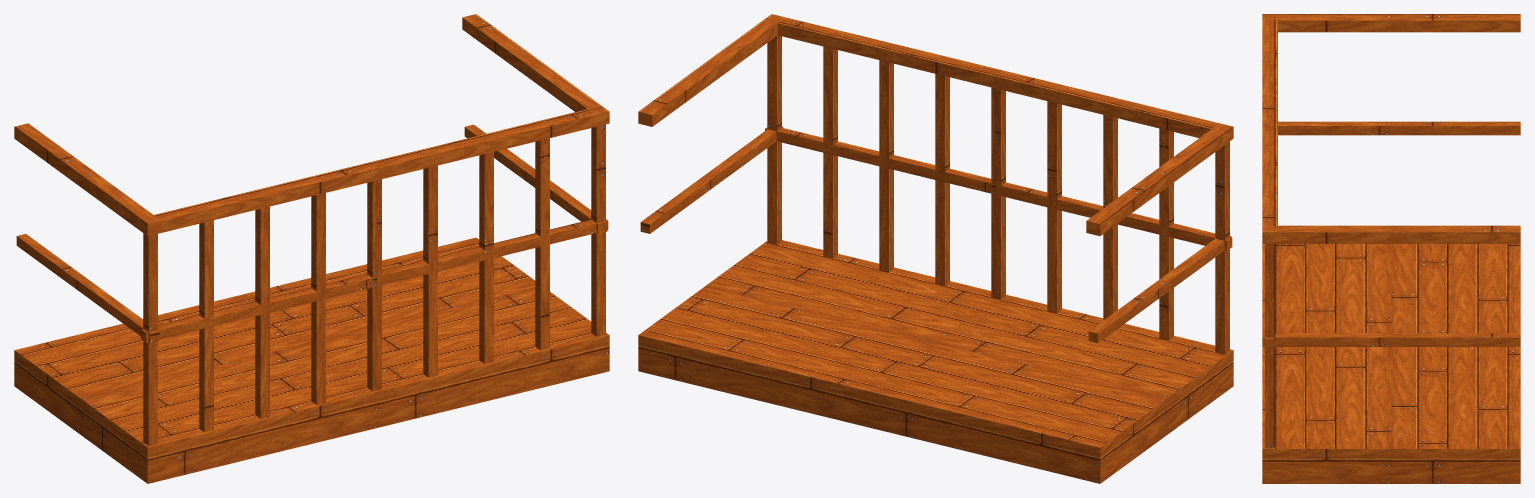
Rendered from Balcony.fbx.
3 renders of one model, left to right at view 1: azimuth 30°, elevation 25°; view 2: azimuth 150°, elevation 25°; view 3: azimuth 270°, elevation 25°, orthographic. The views are drawn at different scales.
Parts seen in each view (by area): view 1: Balcony; view 2: Balcony; view 3: Balcony.
Boxes of the visible parts, bbox=[...] form: Balcony: bbox=[14, 14, 609, 483]; Balcony: bbox=[638, 14, 1233, 483]; Balcony: bbox=[1262, 14, 1520, 483].
Bounding box in the file's own units: 2 × 1.07 × 1.
